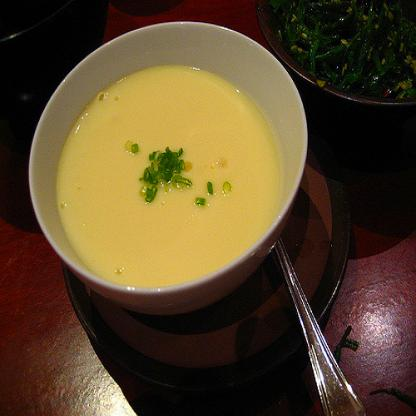Kaithoon: (47, 38, 291, 300)
